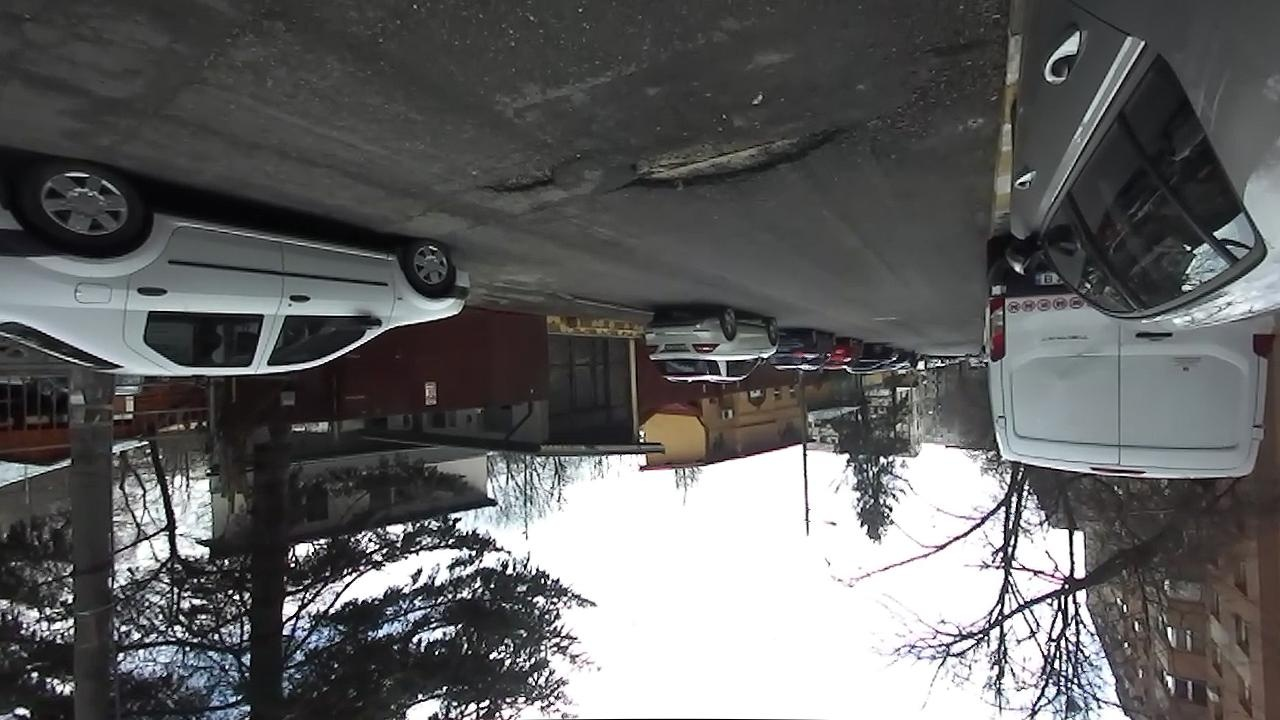pothole: (609, 118, 862, 198), (474, 149, 583, 197)
